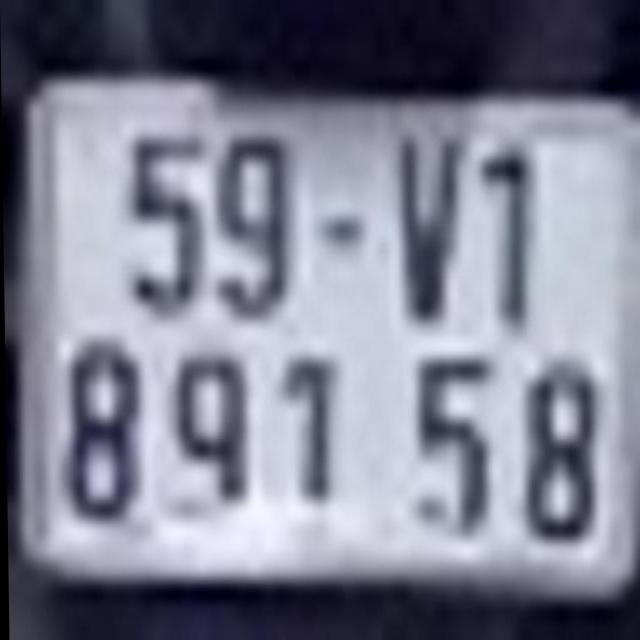1: (275, 344, 340, 511), (482, 143, 534, 339)
5: (404, 345, 501, 554), (127, 130, 208, 316)
8: (62, 334, 148, 540), (525, 358, 600, 550)
9: (206, 123, 298, 319), (162, 339, 251, 536)
V: (393, 138, 468, 328)
